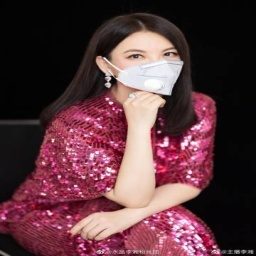correctlyWear: (94, 43, 184, 95)
